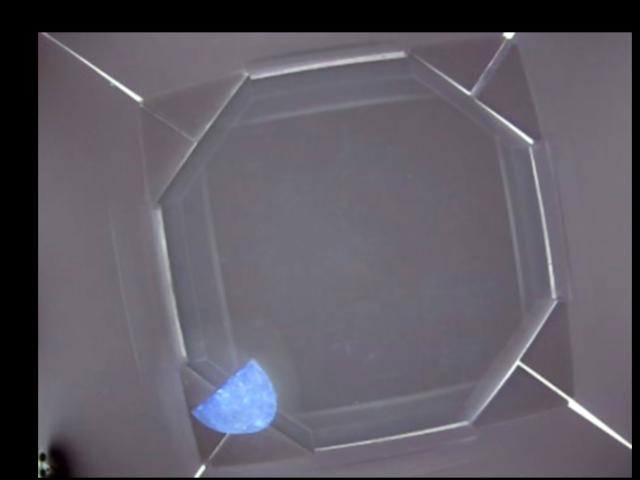Potato: (193, 355, 275, 434)
